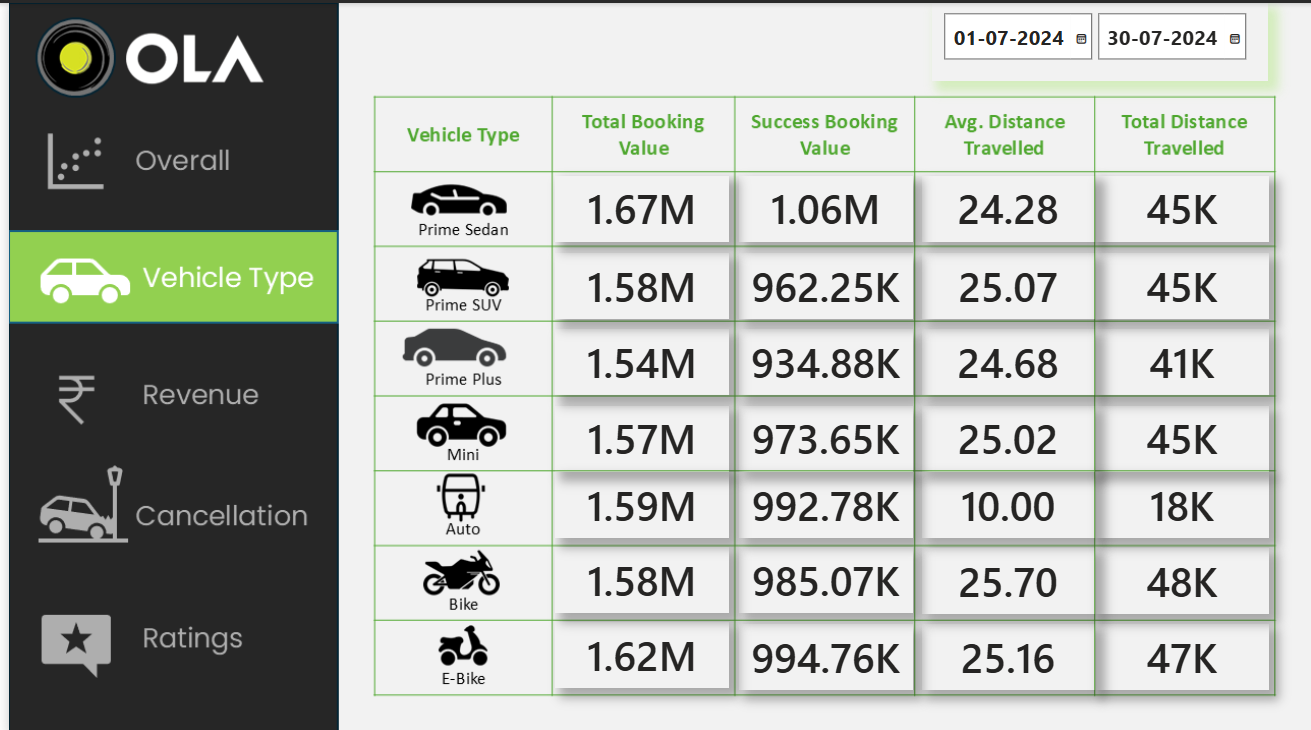

What the dashboard file says about the page in this screenshot:
{"tool":"powerbi","page":{"name":"Vehicle type","canvas":[1280,720],"ordinal":1},"visuals":[{"type":"card","fields":{"Values":["Sum(July.Booking_Value)"]},"box":[536.5,168.8,170.2,64.5],"z":0},{"type":"card","fields":{"Values":["Sum(July.Booking_Value)"]},"box":[536.5,319.7,170.2,64.5],"z":1000},{"type":"card","fields":{"Values":["Sum(July.Booking_Value)"]},"box":[536.5,459.7,170.2,64.5],"z":2000},{"type":"card","fields":{"Values":["Sum(July.Booking_Value)"]},"box":[536.5,395.2,170.2,64.5],"z":3000},{"type":"card","fields":{"Values":["Sum(July.Booking_Value)"]},"box":[536.5,533.8,170.2,64.5],"z":4000},{"type":"card","fields":{"Values":["Sum(July.Booking_Value)"]},"box":[536.5,607.9,170.2,64.5],"z":5000},{"type":"card","fields":{"Values":["Sum(July.Booking_Value)"]},"box":[536.5,245.6,170.2,64.5],"z":6000},{"type":"card","fields":{"Values":["Sum(July.Booking_Value)"]},"box":[716.3,168.8,170.2,64.5],"z":7000},{"type":"card","fields":{"Values":["Sum(July.Booking_Value)"]},"box":[716.3,245.6,170.2,64.5],"z":8000},{"type":"card","fields":{"Values":["Sum(July.Booking_Value)"]},"box":[716.3,395.2,170.2,64.5],"z":9000},{"type":"card","fields":{"Values":["Sum(July.Booking_Value)"]},"box":[716.3,533.8,170.2,64.5],"z":10000},{"type":"card","fields":{"Values":["Sum(July.Booking_Value)"]},"box":[716.3,459.7,170.2,64.5],"z":11000},{"type":"card","fields":{"Values":["Sum(July.Booking_Value)"]},"box":[716.3,609.3,170.2,64.5],"z":12000},{"type":"card","fields":{"Values":["Sum(July.Booking_Value)"]},"box":[716.3,319.7,170.2,64.5],"z":13000},{"type":"card","fields":{"Values":["Avg(July.Ride_Distance)"]},"box":[896.1,168.8,170.2,64.5],"z":14000},{"type":"card","fields":{"Values":["Avg(July.Ride_Distance)"]},"box":[896.1,245.6,170.2,64.5],"z":15000},{"type":"card","fields":{"Values":["Avg(July.Ride_Distance)"]},"box":[896.1,319.7,170.2,64.5],"z":16000},{"type":"card","fields":{"Values":["Avg(July.Ride_Distance)"]},"box":[896.1,395.2,170.2,64.5],"z":17000},{"type":"card","fields":{"Values":["Avg(July.Ride_Distance)"]},"box":[896.1,459.7,170.2,64.5],"z":18000},{"type":"card","fields":{"Values":["Avg(July.Ride_Distance)"]},"box":[896.1,535.2,170.2,64.5],"z":19000},{"type":"card","fields":{"Values":["Avg(July.Ride_Distance)"]},"box":[896.1,609.3,170.2,64.5],"z":20000},{"type":"card","fields":{"Values":["Sum(July.Ride_Distance)"]},"box":[1066.2,168.8,170.2,64.5],"z":21000},{"type":"card","fields":{"Values":["Sum(July.Ride_Distance)"]},"box":[1066.2,245.6,170.2,64.5],"z":22000},{"type":"card","fields":{"Values":["Sum(July.Ride_Distance)"]},"box":[1066.2,319.7,170.2,64.5],"z":23000},{"type":"card","fields":{"Values":["Sum(July.Ride_Distance)"]},"box":[1066.2,395.2,170.2,64.5],"z":24000},{"type":"card","fields":{"Values":["Sum(July.Ride_Distance)"]},"box":[1066.2,459.7,170.2,64.5],"z":25000},{"type":"card","fields":{"Values":["Sum(July.Ride_Distance)"]},"box":[1066.2,535.2,170.2,64.5],"z":26000},{"type":"card","fields":{"Values":["Sum(July.Ride_Distance)"]},"box":[1066.2,609.3,170.2,64.5],"z":27000},{"type":"slicer","fields":{"Values":["July.Date"]},"box":[905.7,0,330.7,76.8],"z":27001}]}

Visuals, with their boxes on the page's 1280x720 design canvas (x1, y1, x2, y2). These are canvas units, not pixel positions in the 1311x730 screenshot, which may show the page scaled, cropped or inside an application window:
card - Sum(July.Booking_Value): [left=536, top=169, right=707, bottom=233]
card - Sum(July.Booking_Value): [left=536, top=320, right=707, bottom=384]
card - Sum(July.Booking_Value): [left=536, top=460, right=707, bottom=524]
card - Sum(July.Booking_Value): [left=536, top=395, right=707, bottom=460]
card - Sum(July.Booking_Value): [left=536, top=534, right=707, bottom=598]
card - Sum(July.Booking_Value): [left=536, top=608, right=707, bottom=672]
card - Sum(July.Booking_Value): [left=536, top=246, right=707, bottom=310]
card - Sum(July.Booking_Value): [left=716, top=169, right=886, bottom=233]
card - Sum(July.Booking_Value): [left=716, top=246, right=886, bottom=310]
card - Sum(July.Booking_Value): [left=716, top=395, right=886, bottom=460]
card - Sum(July.Booking_Value): [left=716, top=534, right=886, bottom=598]
card - Sum(July.Booking_Value): [left=716, top=460, right=886, bottom=524]
card - Sum(July.Booking_Value): [left=716, top=609, right=886, bottom=674]
card - Sum(July.Booking_Value): [left=716, top=320, right=886, bottom=384]
card - Avg(July.Ride_Distance): [left=896, top=169, right=1066, bottom=233]
card - Avg(July.Ride_Distance): [left=896, top=246, right=1066, bottom=310]
card - Avg(July.Ride_Distance): [left=896, top=320, right=1066, bottom=384]
card - Avg(July.Ride_Distance): [left=896, top=395, right=1066, bottom=460]
card - Avg(July.Ride_Distance): [left=896, top=460, right=1066, bottom=524]
card - Avg(July.Ride_Distance): [left=896, top=535, right=1066, bottom=600]
card - Avg(July.Ride_Distance): [left=896, top=609, right=1066, bottom=674]
card - Sum(July.Ride_Distance): [left=1066, top=169, right=1236, bottom=233]
card - Sum(July.Ride_Distance): [left=1066, top=246, right=1236, bottom=310]
card - Sum(July.Ride_Distance): [left=1066, top=320, right=1236, bottom=384]
card - Sum(July.Ride_Distance): [left=1066, top=395, right=1236, bottom=460]
card - Sum(July.Ride_Distance): [left=1066, top=460, right=1236, bottom=524]
card - Sum(July.Ride_Distance): [left=1066, top=535, right=1236, bottom=600]
card - Sum(July.Ride_Distance): [left=1066, top=609, right=1236, bottom=674]
slicer - July.Date: [left=906, top=0, right=1236, bottom=77]
